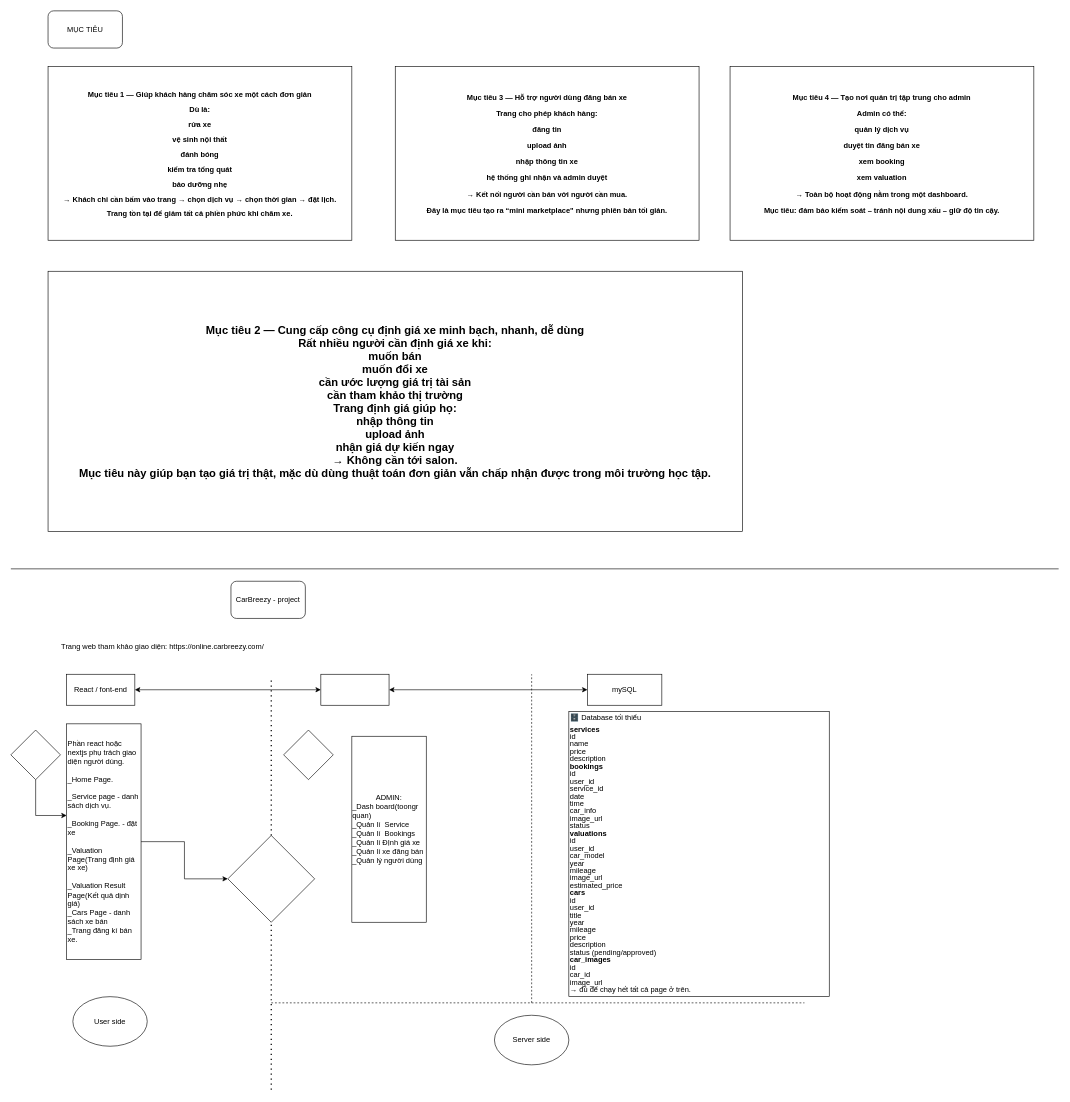
Image size: 1070x1102. Some labels were removed from this diagram. Each missing label, with the centre of its shape:
Back-end by Laravel: point (271, 878)
Laracel Core: point (308, 754)
Laravel / back-end: point (354, 689)
React/Nextjs: point (35, 754)
